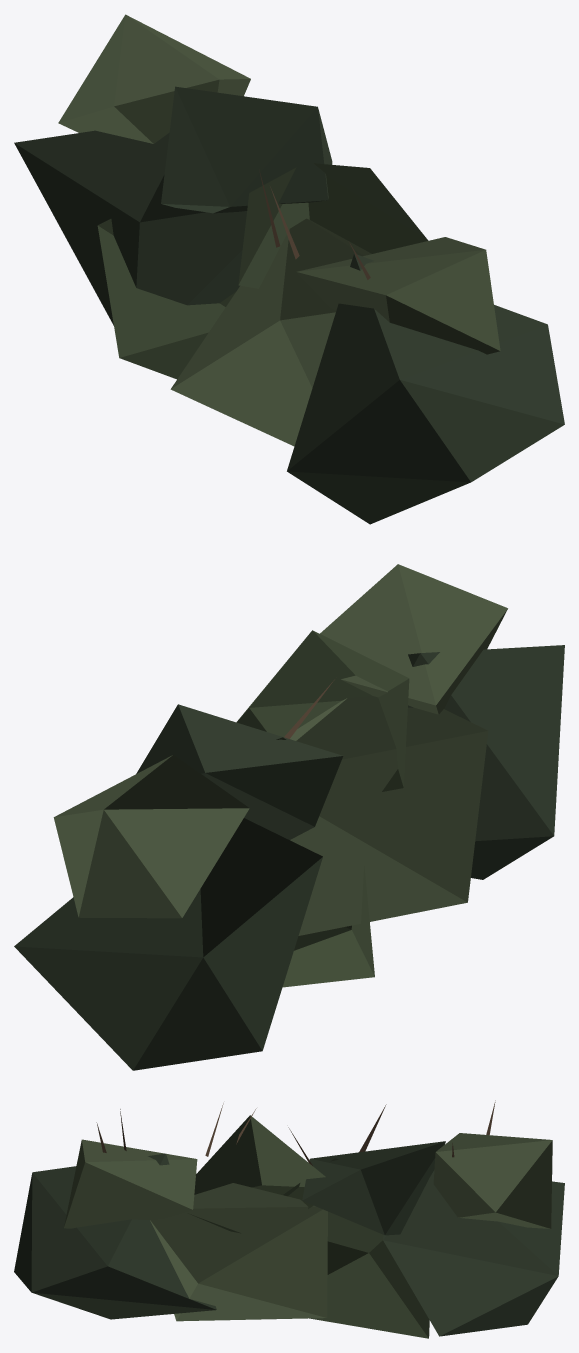
File: bree_hedge_lod2.glb
3 renders of one model, top to bottom at view 1: azimuth 30°, elevation 25°; view 2: azimuth 150°, elevation 25°; view 3: azimuth 270°, elevation 25°, orthographic. The views are drawn at different scales.
Parts seen in each view (by area): view 1: bree_hedge_lod2; view 2: bree_hedge_lod2; view 3: bree_hedge_lod2.
Part boxes in pixels (left/top/right/bottom): bree_hedge_lod2: left=14, top=14, right=564, bottom=524; bree_hedge_lod2: left=14, top=564, right=564, bottom=1070; bree_hedge_lod2: left=14, top=1100, right=564, bottom=1338.
Size of the model in its own units: 1.88 by 1.97 by 4.59.
